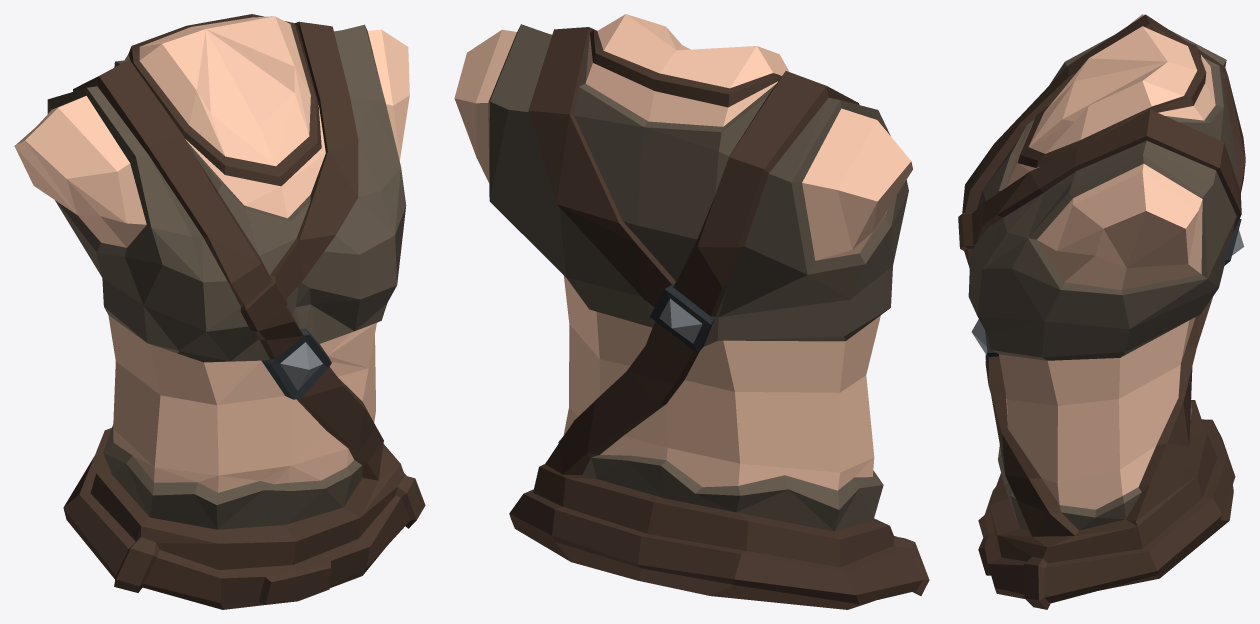
File: Chr_Torso_Female_01_Static.fbx
The picture shows the model from 3 angles, left to right: view 1: azimuth 30°, elevation 25°; view 2: azimuth 150°, elevation 25°; view 3: azimuth 270°, elevation 25°; orthographic projection. The views are drawn at different scales.
Visible parts, largest first — view 1: Chr_Torso_Female_01_Static; view 2: Chr_Torso_Female_01_Static; view 3: Chr_Torso_Female_01_Static.
Boxes of the visible parts, <box> form: Chr_Torso_Female_01_Static: <box>14,14,425,609</box>; Chr_Torso_Female_01_Static: <box>454,14,929,609</box>; Chr_Torso_Female_01_Static: <box>958,14,1245,609</box>.
Bounding box in the file's own units: 0.4985 × 0.6445 × 0.3263.
